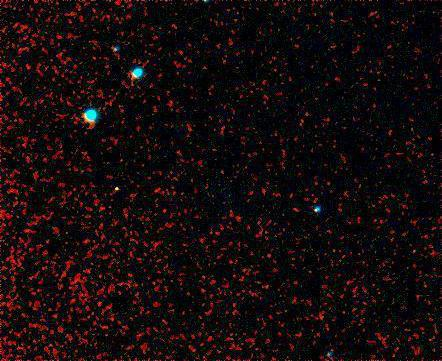star: (102, 174, 132, 204)
